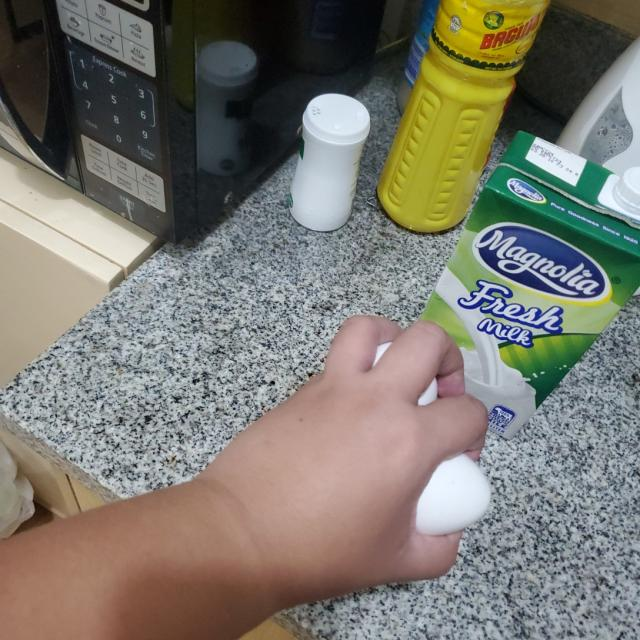egg: (414, 452, 493, 539), (364, 335, 439, 408)
milk: (426, 128, 640, 434)
